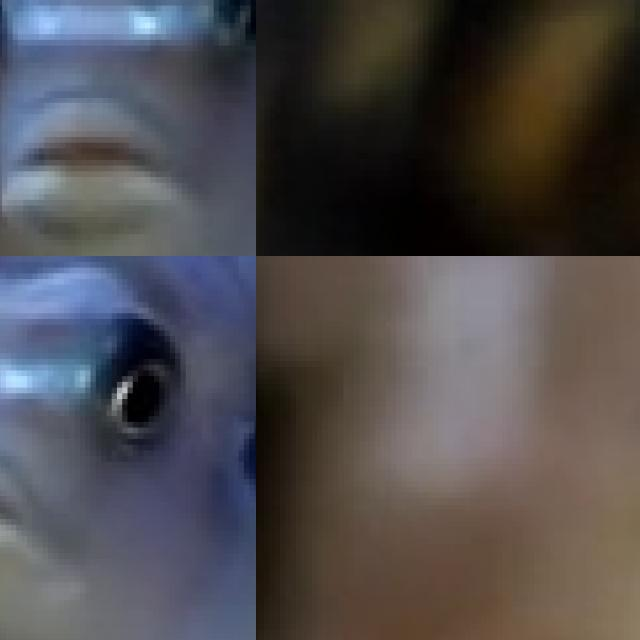fish: (0, 261, 256, 640), (0, 0, 256, 256)
